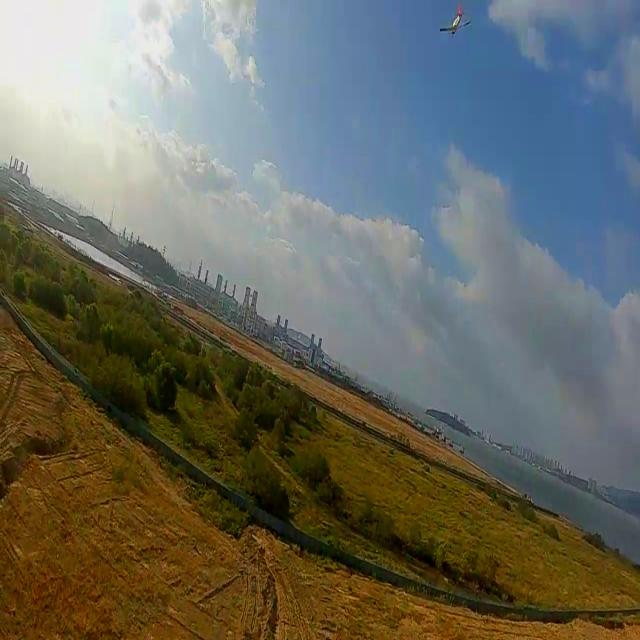iha: (427, 0, 480, 50)
